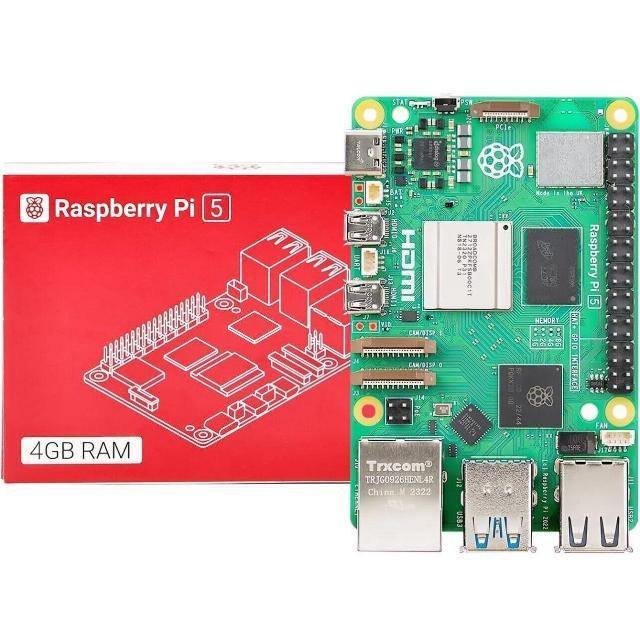Raspberry-Pi-5: (346, 98, 638, 552)
